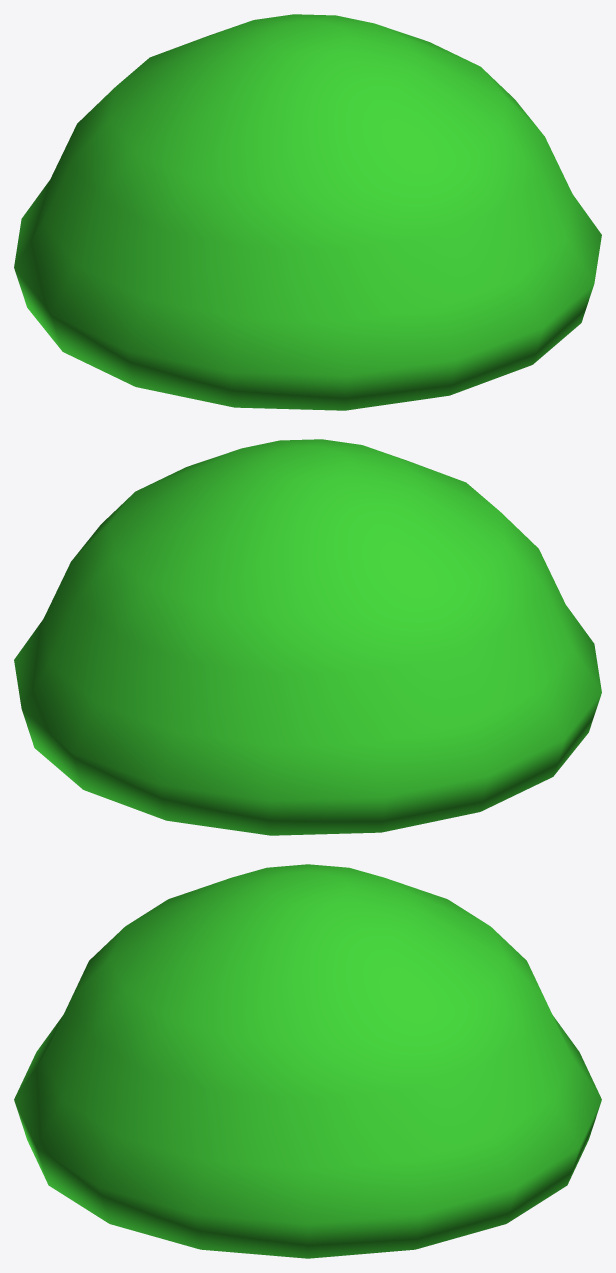
Rendered from VMP_MOD_Soft_serve_machine_01_lid_01.fbx.
3 views of the same model, one above another, from view 1: azimuth 30°, elevation 25°; view 2: azimuth 150°, elevation 25°; view 3: azimuth 270°, elevation 25° (orthographic).
Visible parts, largest first — view 1: VMP_MOD_Soft_serve_machine_01_lid_01; view 2: VMP_MOD_Soft_serve_machine_01_lid_01; view 3: VMP_MOD_Soft_serve_machine_01_lid_01.
Boxes of the visible parts, left/top/right/bottom form: VMP_MOD_Soft_serve_machine_01_lid_01: left=14, top=14, right=601, bottom=410; VMP_MOD_Soft_serve_machine_01_lid_01: left=14, top=439, right=601, bottom=835; VMP_MOD_Soft_serve_machine_01_lid_01: left=14, top=864, right=601, bottom=1258.
Bounding box in the file's own units: 0.1213 × 0.0573 × 0.1213.
